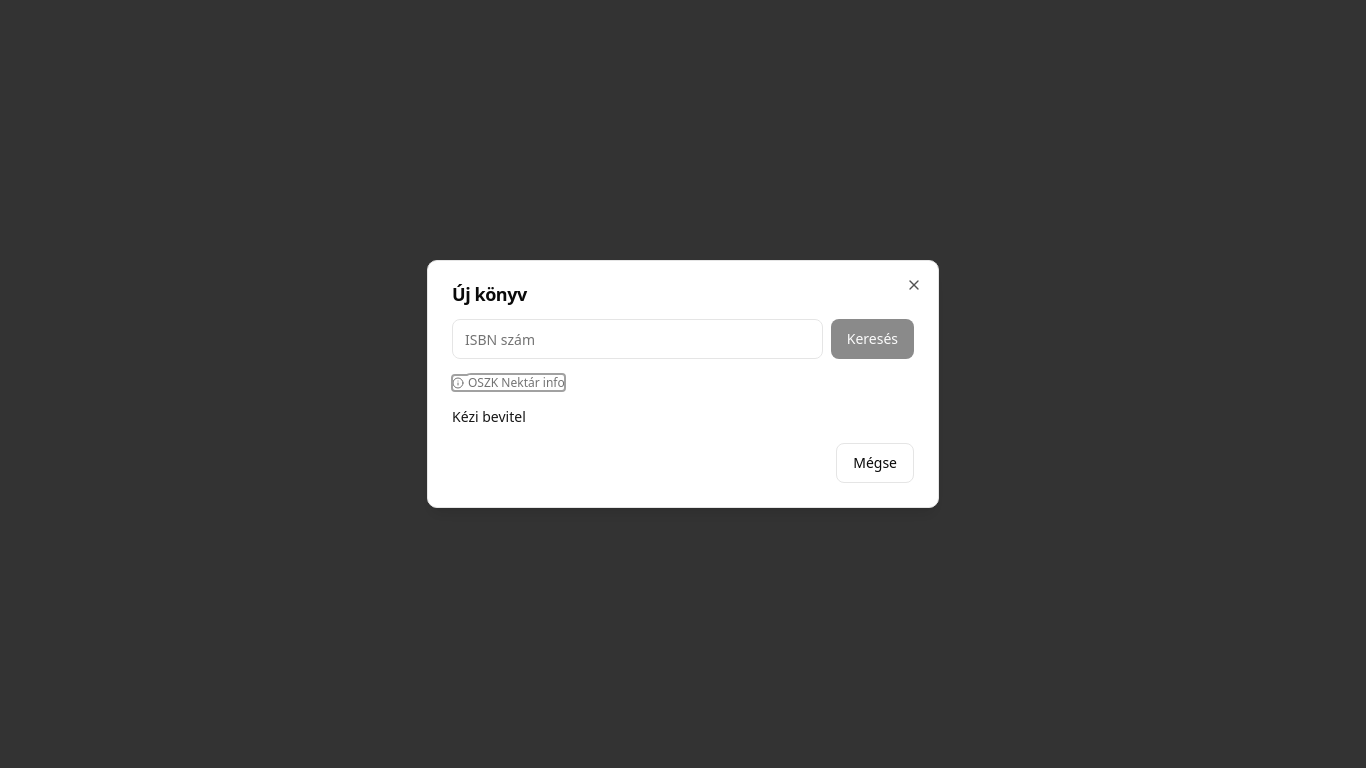
BookFormModal — create mode - manual entry › save button is disabled when pageCount is filled but no title given
Step 1. Click the button "Kézi bevitel" → (489, 417), box [452,407,526,427]
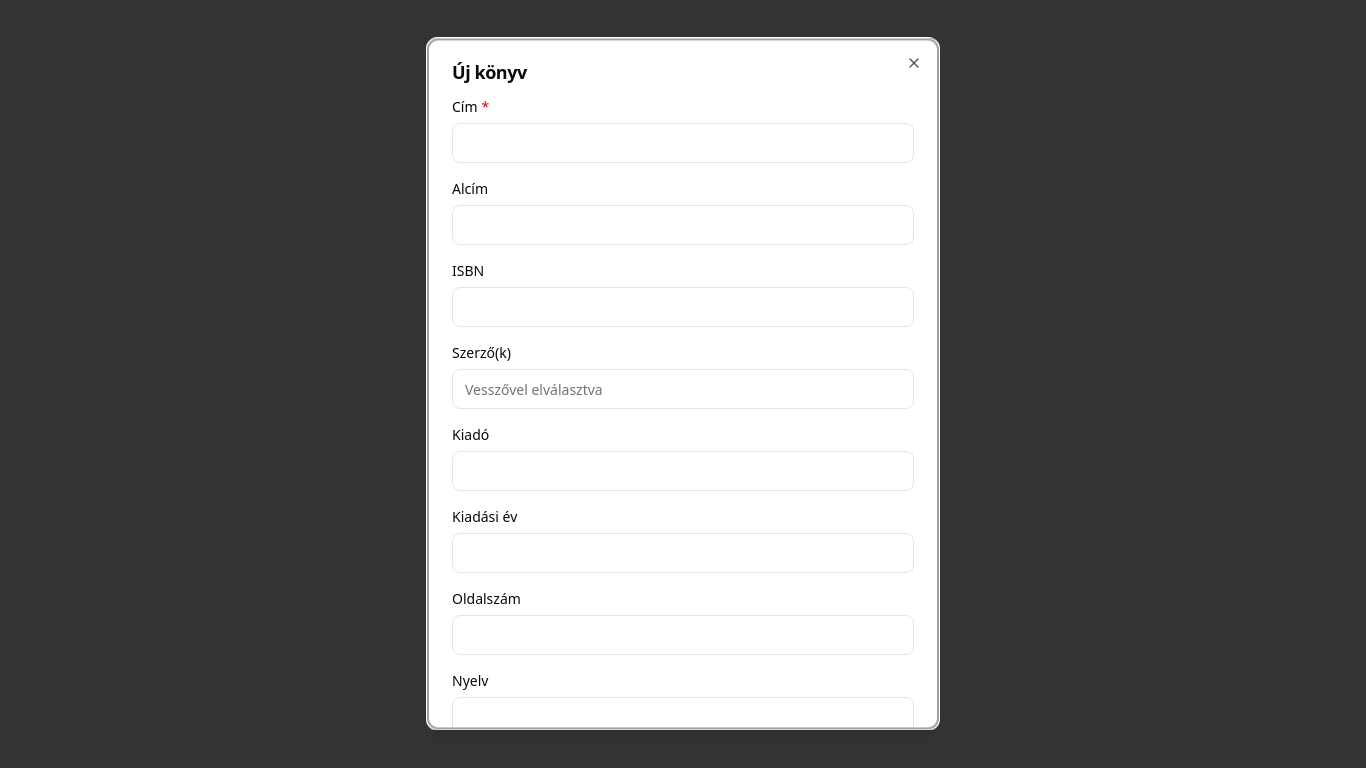
Step 2. Type "12" into the number field labelled "Oldalszám" → (683, 635), box [452,615,914,655]
(page scrolled)
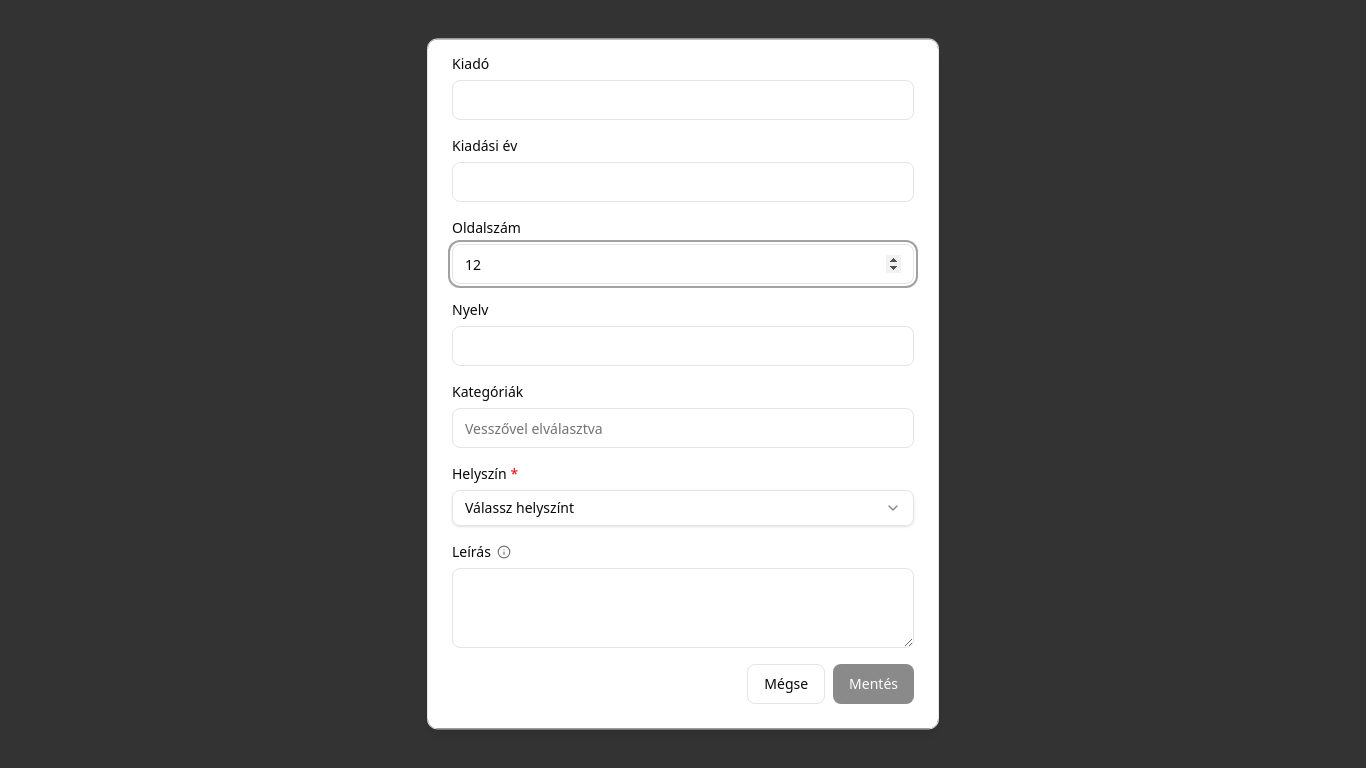
Expected: the button "Mentés" is disabled, [833,664,914,704]
